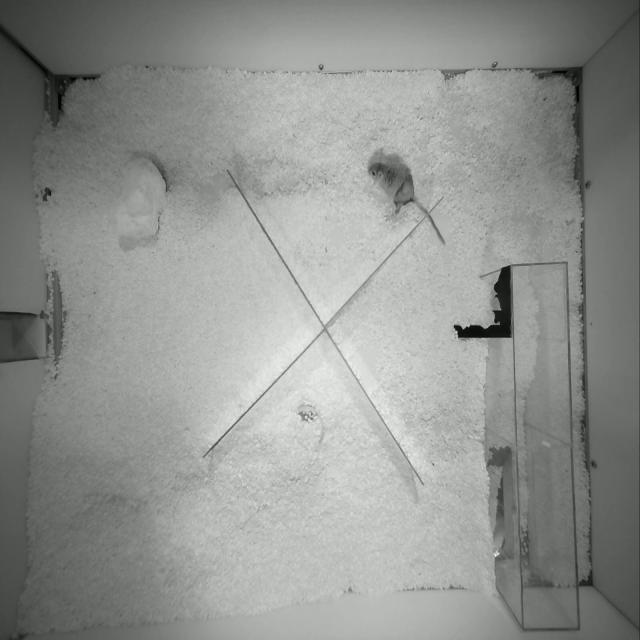adult_back: (368, 162, 444, 243)
